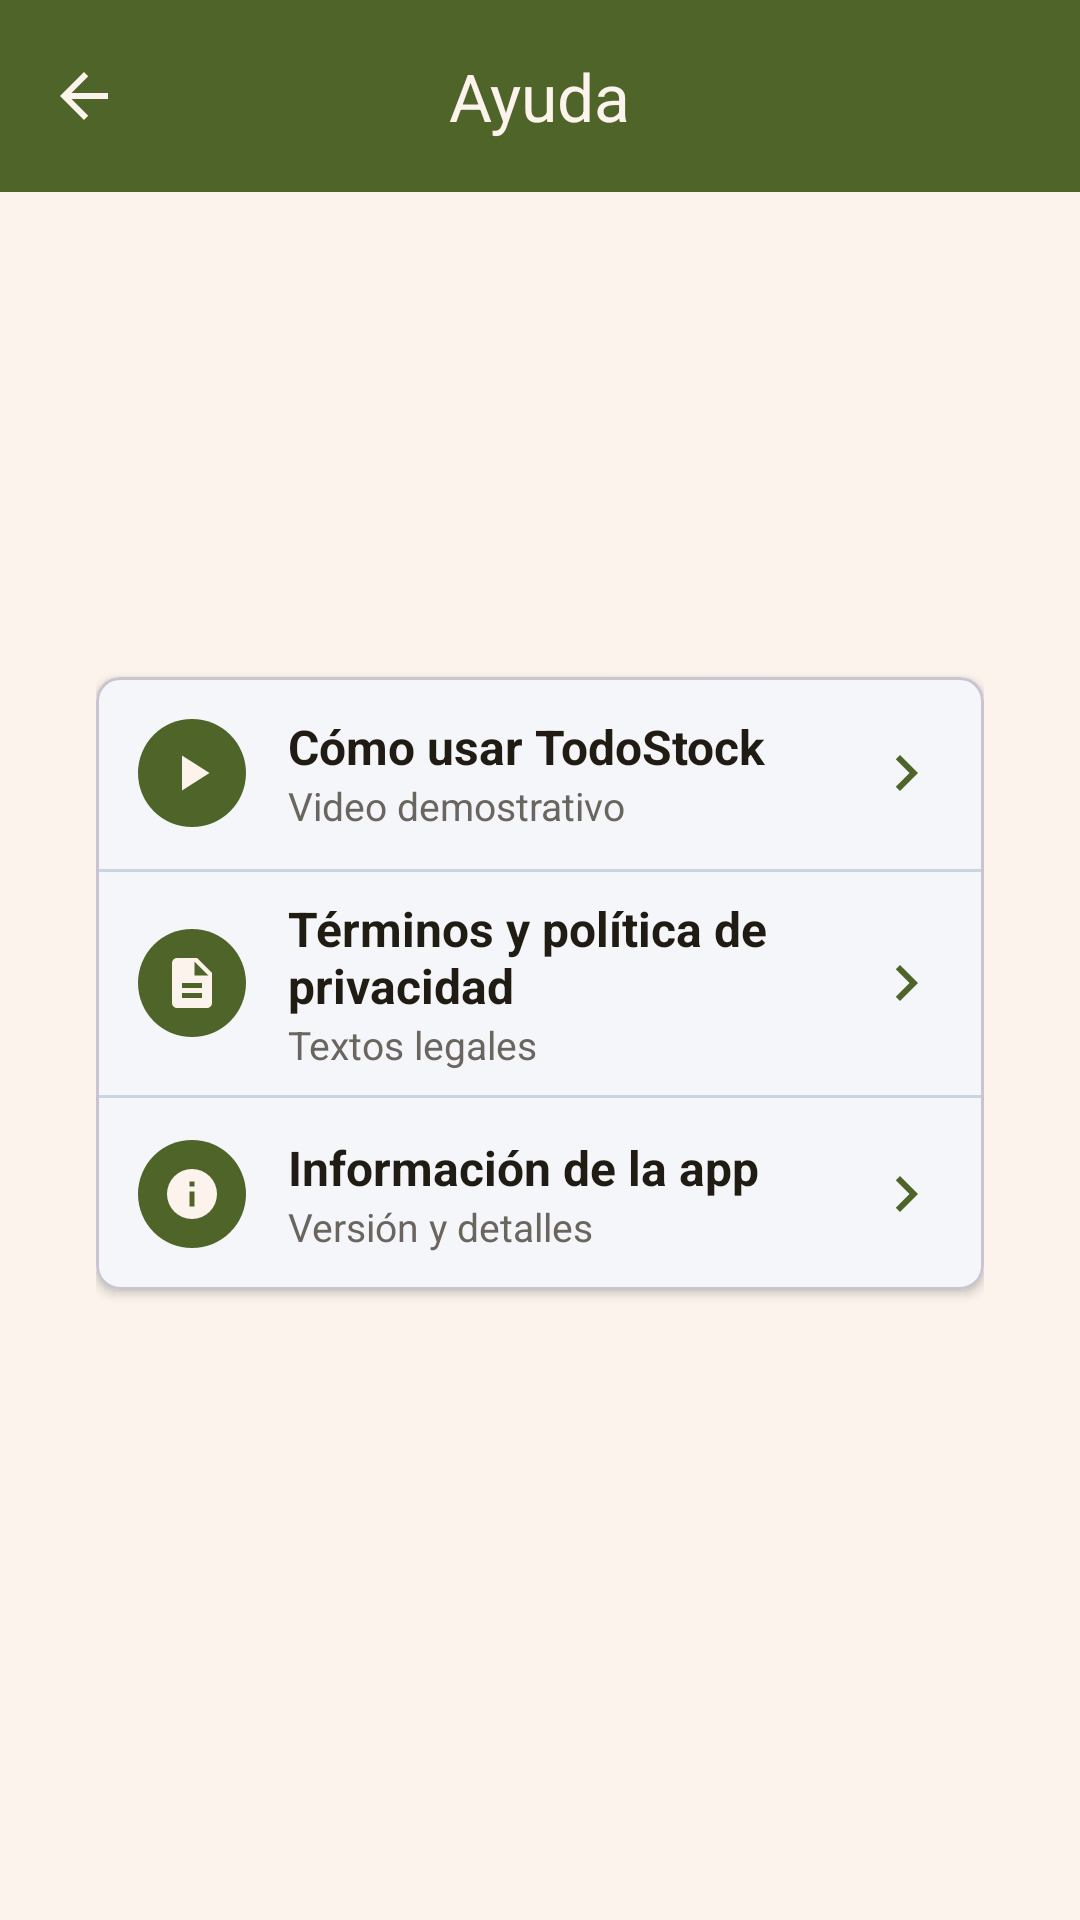

Icons on this 1080 × 1920 Android screen, each with its box as [x1,y1,x2,y2]:
ayuda documento: [138,929,246,1037]
ayuda info: [138,1140,246,1248]
ayuda video: [138,719,246,827]
